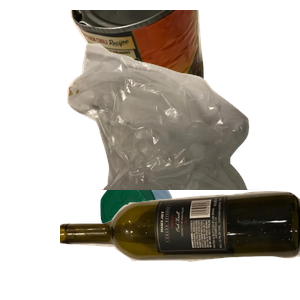glass: (60, 189, 300, 300)
metal: (68, 10, 265, 131)
plastic: (98, 176, 266, 300)
trash: (65, 41, 300, 221)
